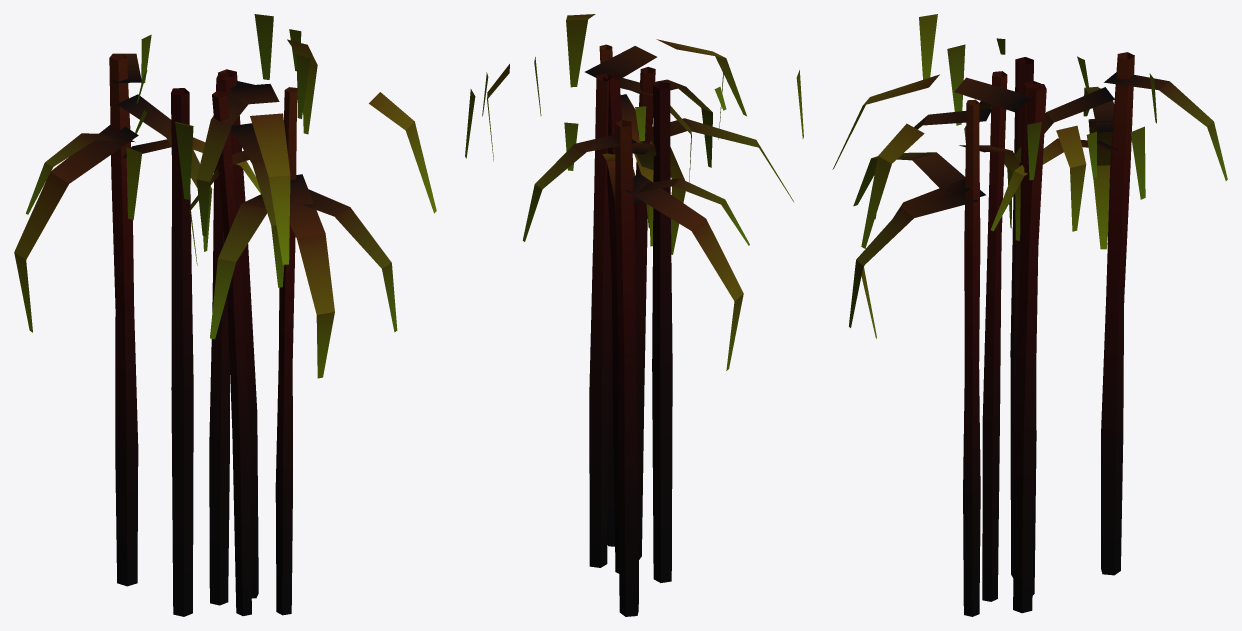
File: bamboo_b_stump.glb
The picture shows the model from 3 angles, left to right: view 1: azimuth 30°, elevation 25°; view 2: azimuth 150°, elevation 25°; view 3: azimuth 270°, elevation 25°; orthographic projection. The views are drawn at different scales.
Parts seen in each view (by area): view 1: bamboo_b_low; view 2: bamboo_b_low; view 3: bamboo_b_low.
Part boxes in pixels (box(x1,y1,x2,y2)): bamboo_b_low: box(14, 14, 436, 616); bamboo_b_low: box(465, 14, 803, 616); bamboo_b_low: box(832, 14, 1227, 616).
Bounding box in the file's own units: 1.18 × 1.96 × 1.37.
Materials: 1 (1 with a texture image).
